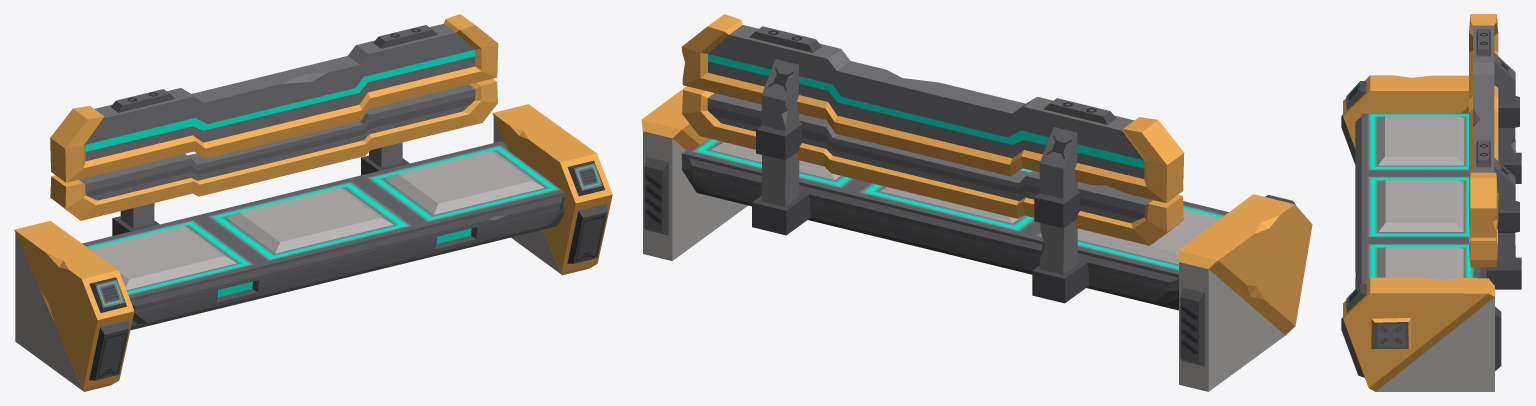
File: SM_Prop_Bench_Seat_01.fbx
3 views of the same model, side by side, from view 1: azimuth 30°, elevation 25°; view 2: azimuth 150°, elevation 25°; view 3: azimuth 270°, elevation 25° (orthographic). The views are drawn at different scales.
Parts seen in each view (by area): view 1: SM_Prop_Bench_Seat_01; view 2: SM_Prop_Bench_Seat_01; view 3: SM_Prop_Bench_Seat_01.
Part boxes in pixels (bbox=[...]): SM_Prop_Bench_Seat_01: bbox=[14, 14, 612, 391]; SM_Prop_Bench_Seat_01: bbox=[641, 14, 1312, 391]; SM_Prop_Bench_Seat_01: bbox=[1341, 14, 1521, 391].
Bounding box in the file's own units: 244 × 98.87 × 84.9.
